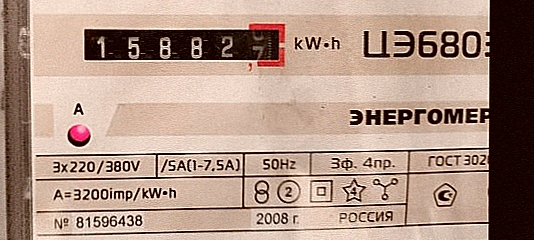1: (94, 33, 106, 59)
2: (218, 33, 234, 59)
5: (125, 34, 139, 60)
7: (249, 43, 264, 60)
8: (156, 34, 172, 59), (188, 34, 203, 59)
screen: (73, 17, 293, 75)
